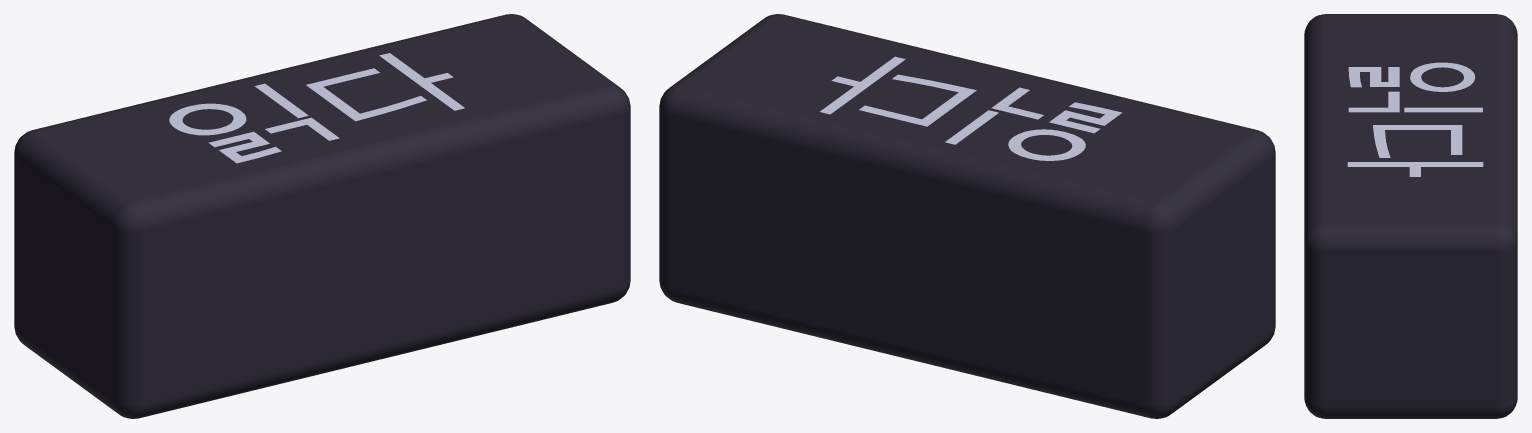
The model's file is read.glb.
3 views of the same model, side by side, from view 1: azimuth 30°, elevation 25°; view 2: azimuth 150°, elevation 25°; view 3: azimuth 270°, elevation 25° (orthographic). The views are drawn at different scales.
Parts seen in each view (by area): view 1: Cut, Extrude; view 2: Cut, Extrude; view 3: Cut, Extrude.
Part boxes in pixels (x1,y1,x2,y2): Cut: [14, 14, 630, 418]; Extrude: [169, 53, 464, 163]; Cut: [659, 14, 1275, 418]; Extrude: [820, 56, 1121, 160]; Cut: [1304, 14, 1517, 418]; Extrude: [1347, 62, 1483, 176].
Size of the model in its own units: 5 by 2 by 2.
